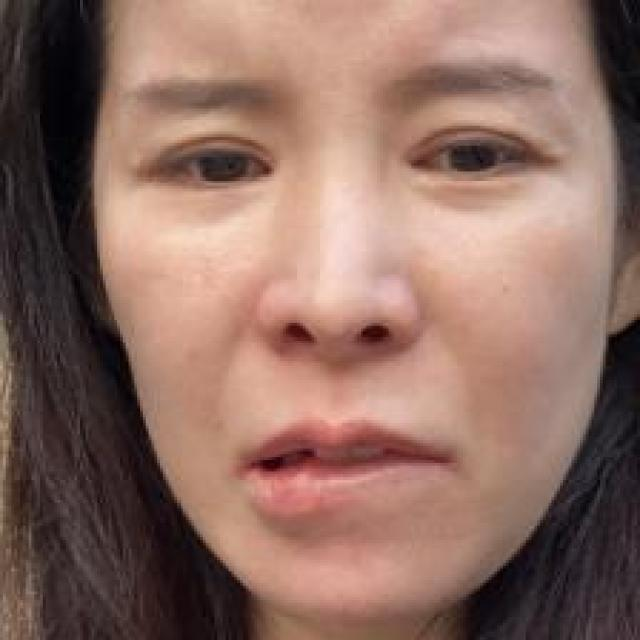fear: (68, 13, 596, 574)
